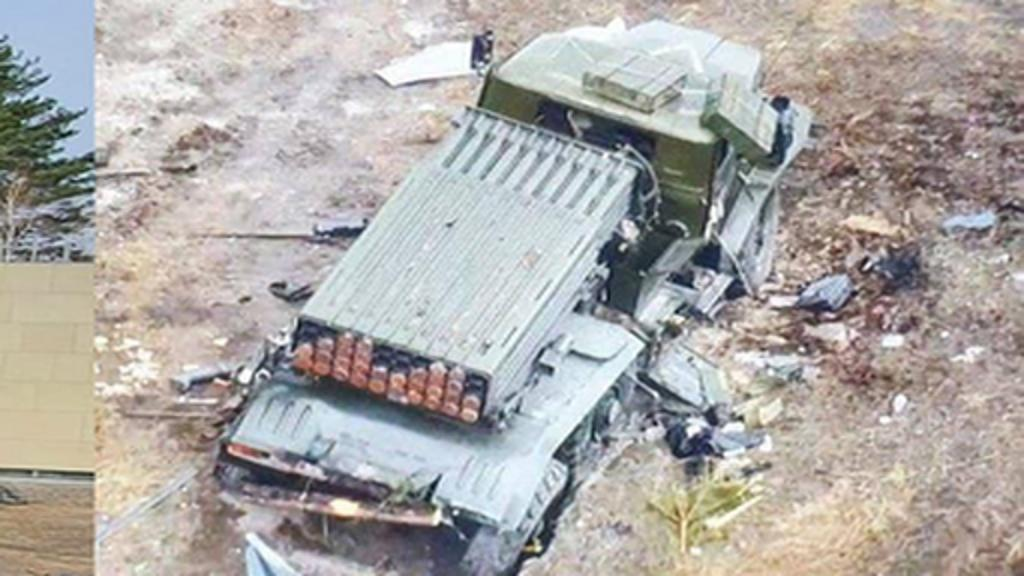MLRS: (220, 10, 816, 566)
